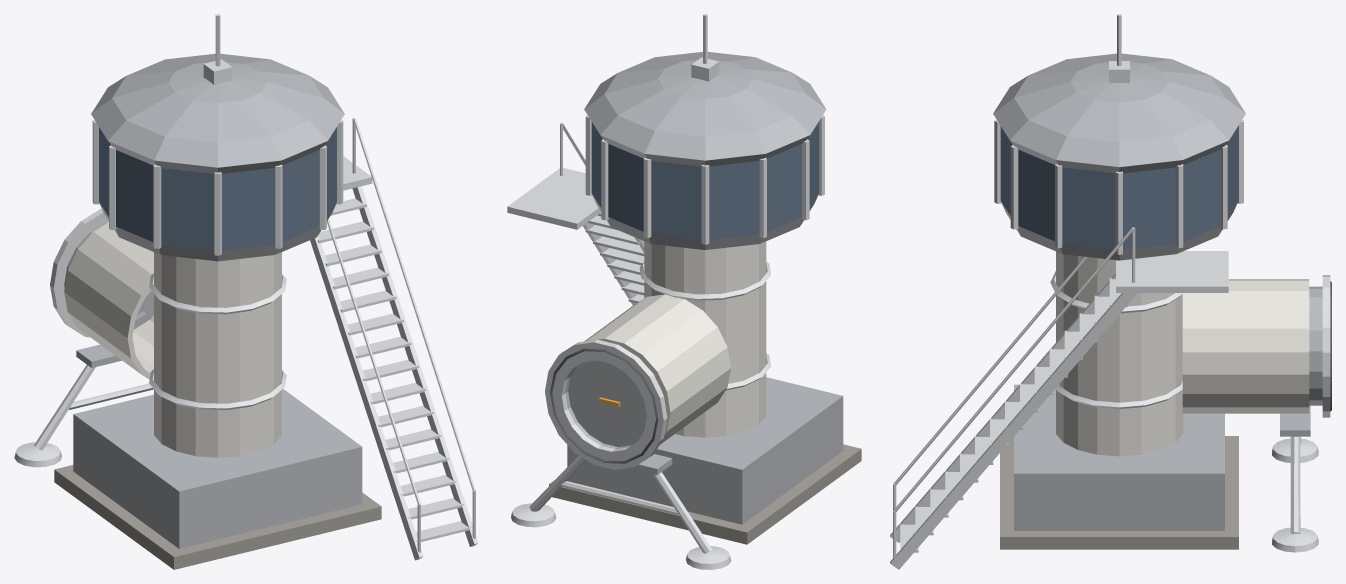
File: cupola-observation-tur-3bfecc15.glb
3 views of the same model, side by side, from view 1: azimuth 30°, elevation 25°; view 2: azimuth 150°, elevation 25°; view 3: azimuth 270°, elevation 25° (orthographic). The views are drawn at different scales.
Parts seen in each view (by area): view 1: cupola-observation-turret; view 2: cupola-observation-turret; view 3: cupola-observation-turret.
Boxes of the visible parts, <box> form: cupola-observation-turret: <box>14,14,478,569</box>; cupola-observation-turret: <box>507,14,861,569</box>; cupola-observation-turret: <box>890,14,1331,569</box>.
Size of the model in its own units: 4.34 by 7.6 by 6.28.
